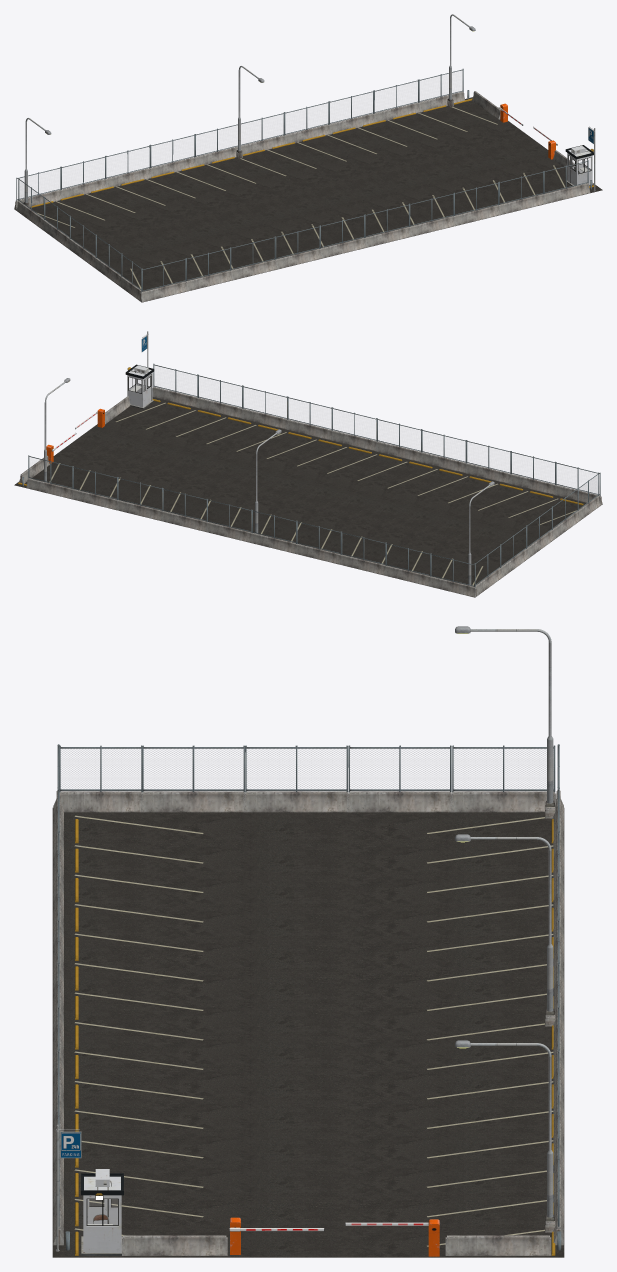
3 renders of one model, top to bottom at view 1: azimuth 30°, elevation 25°; view 2: azimuth 150°, elevation 25°; view 3: azimuth 270°, elevation 25°, orthographic. The views are drawn at different scales.
Visible parts, largest first — view 1: Base; view 2: Base; view 3: Base.
Part boxes in pixels (x1,y1,x2,y2): Base: [14, 14, 602, 302]; Base: [14, 331, 602, 597]; Base: [52, 626, 564, 1257].
Size of the model in its own units: 35.97 by 7.06 by 17.21.
Materials: 25 (21 with a texture image).
